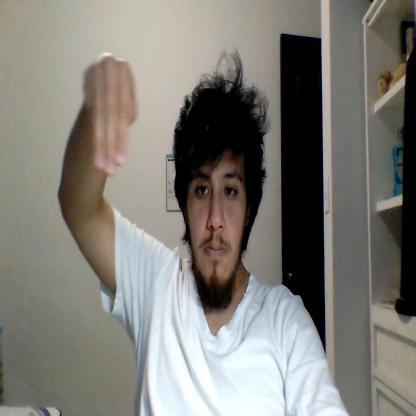M: (84, 55, 136, 174)
